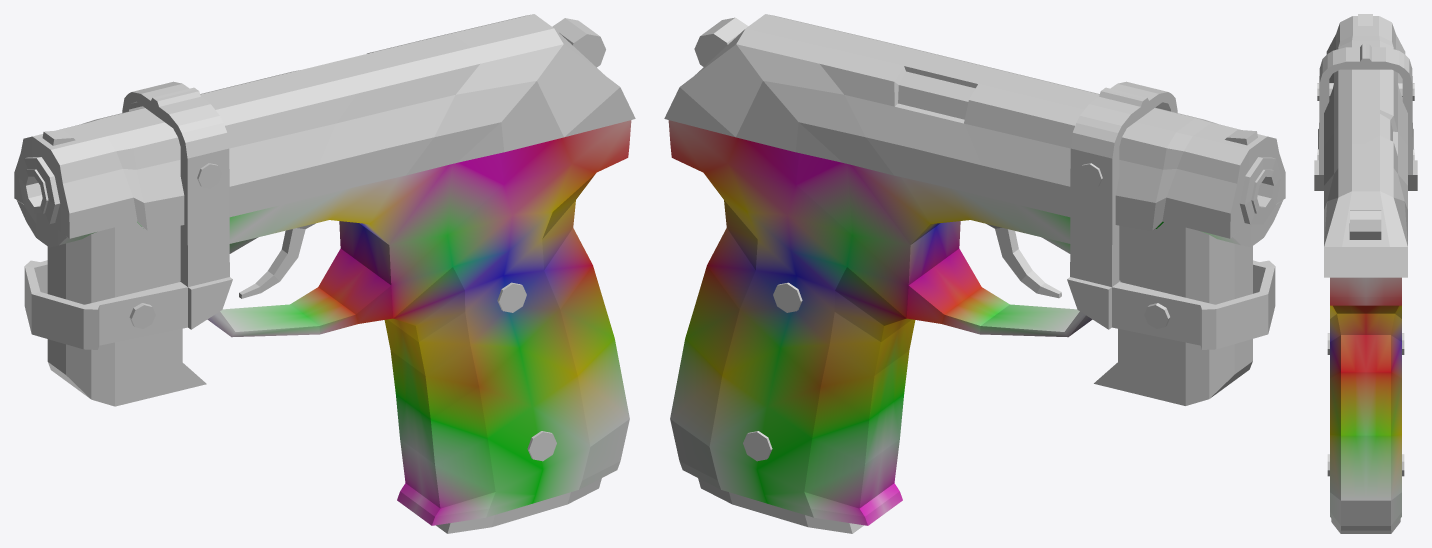
Rendered from makarov_modded.fbx.
3 renders of one model, left to right at view 1: azimuth 30°, elevation 25°; view 2: azimuth 150°, elevation 25°; view 3: azimuth 270°, elevation 25°, orthographic. The views are drawn at different scales.
Visible parts, largest first — view 1: main body, main body upper slide, addons 2, addons, details, mag; view 2: main body, main body upper slide, addons 2, addons, details, mag; view 3: main body, main body upper slide, addons 2, details, mag.
Part boxes in pixels (<box>): main body: <box>16,120,631,525</box>; main body upper slide: <box>14,14,635,238</box>; addons 2: <box>24,81,556,461</box>; addons: <box>47,222,206,406</box>; details: <box>18,18,605,298</box>; mag: <box>436,478,601,533</box>; main body: <box>668,120,1283,525</box>; main body upper slide: <box>664,14,1285,238</box>; addons 2: <box>743,81,1275,461</box>; addons: <box>1094,222,1252,405</box>; details: <box>694,17,1281,298</box>; mag: <box>698,478,863,533</box>; main body: <box>1330,277,1401,530</box>; main body upper slide: <box>1324,16,1407,277</box>; addons 2: <box>1314,44,1417,476</box>; details: <box>1349,14,1381,239</box>; mag: <box>1331,519,1400,533</box>.
Size of the model in its own units: 418 by 336 by 90.54.
